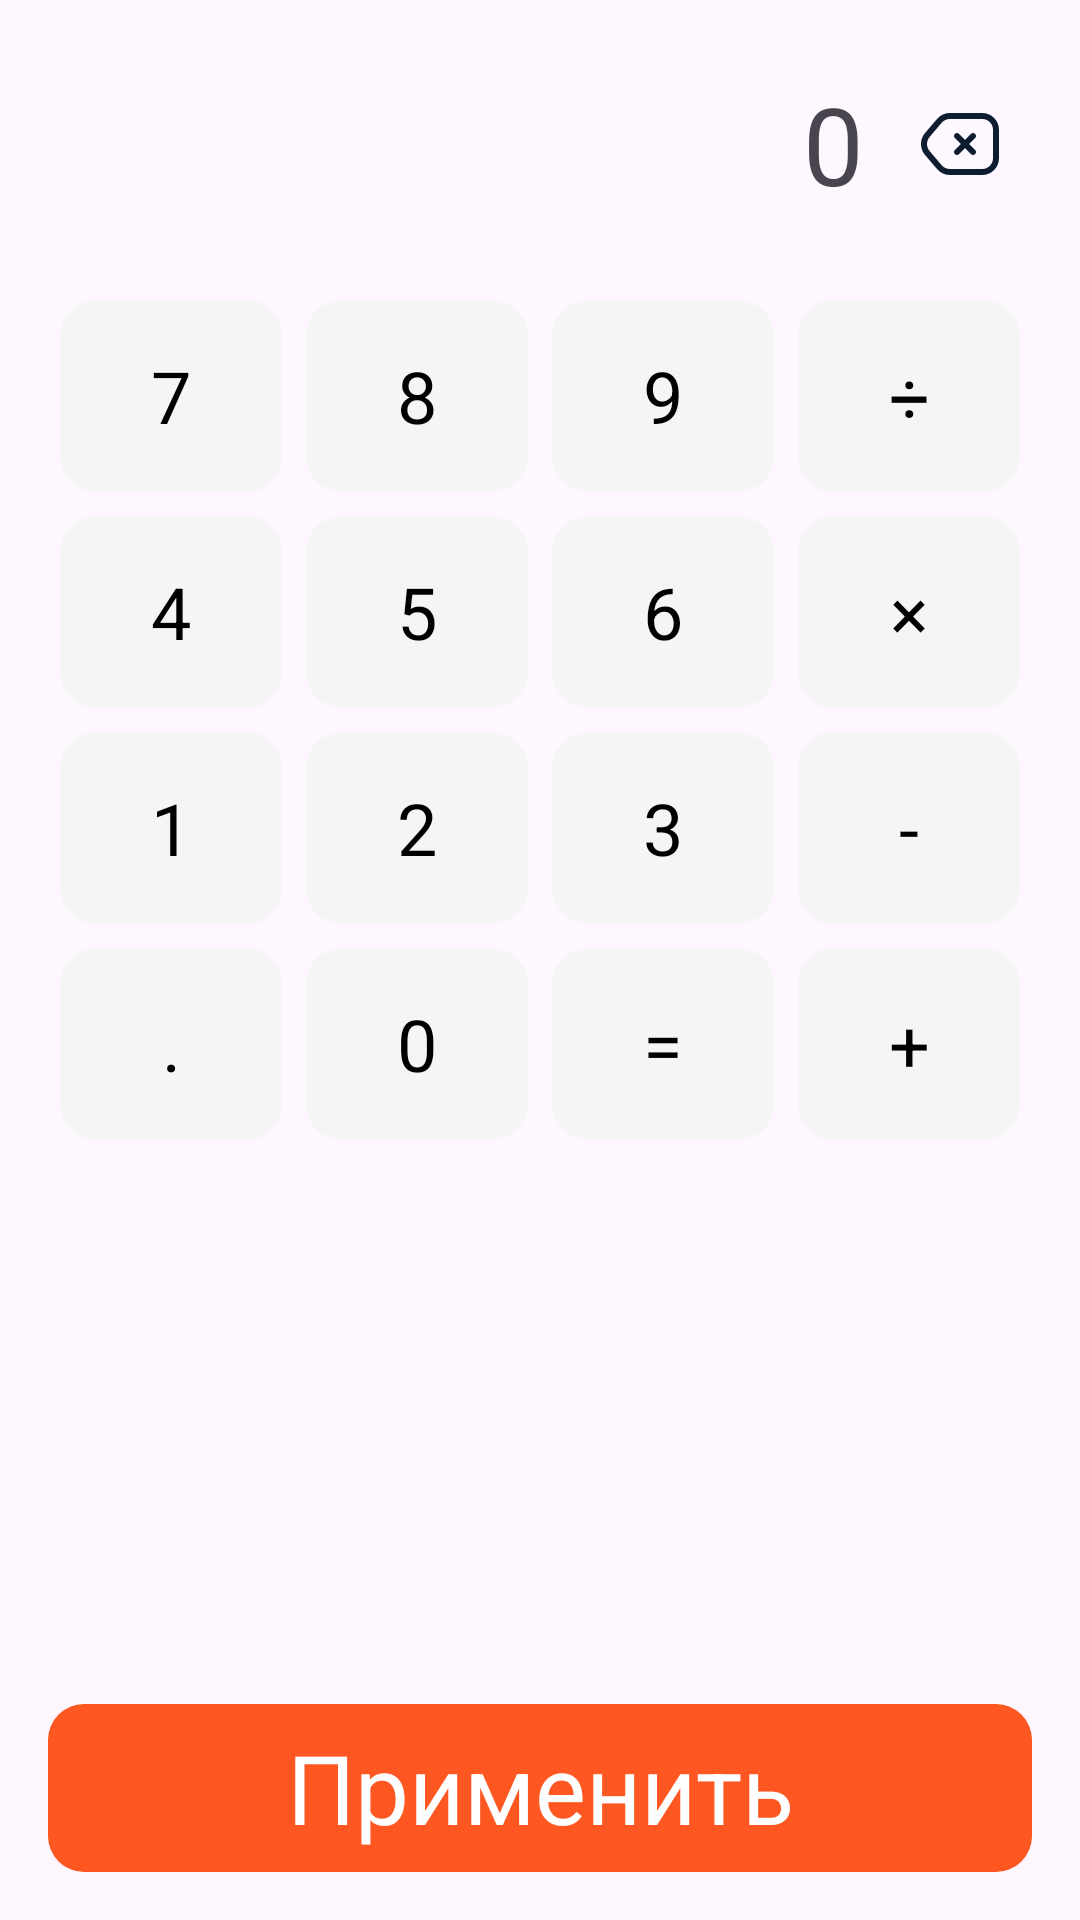

Screen size 1080px x 1920px. Icon name, then its box in pixels as (x1, y1, x2, y2):
Backspace: (921, 113, 999, 175)
